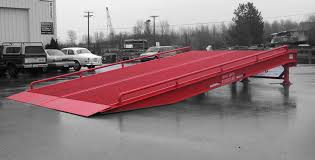Yard Ramp: (5, 45, 297, 116)
